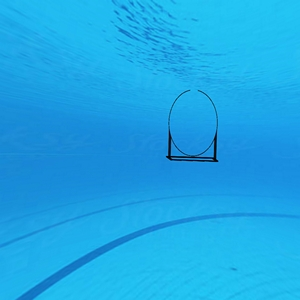circle: (165, 86, 223, 171)
